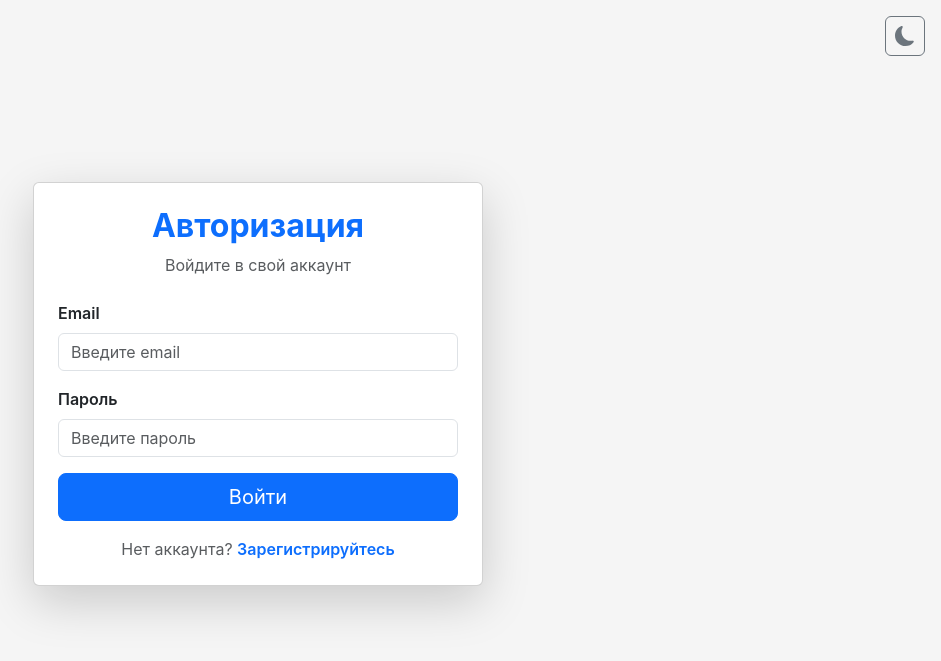
Test case: LoginForm › показывает ошибку при пустом email
What coordinates should you click on to do the following:
click the button "Войти"
I would click on:
 (258, 497)
Its box is [58, 473, 458, 521].
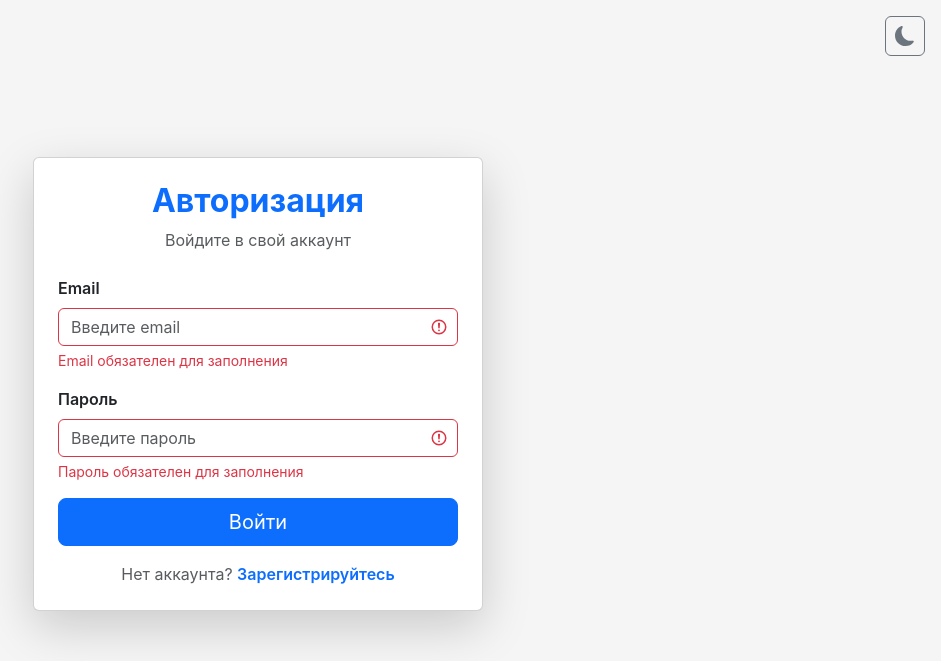
expect the text "Email обязателен для заполнения" is shown: met, box [58, 352, 288, 369]
